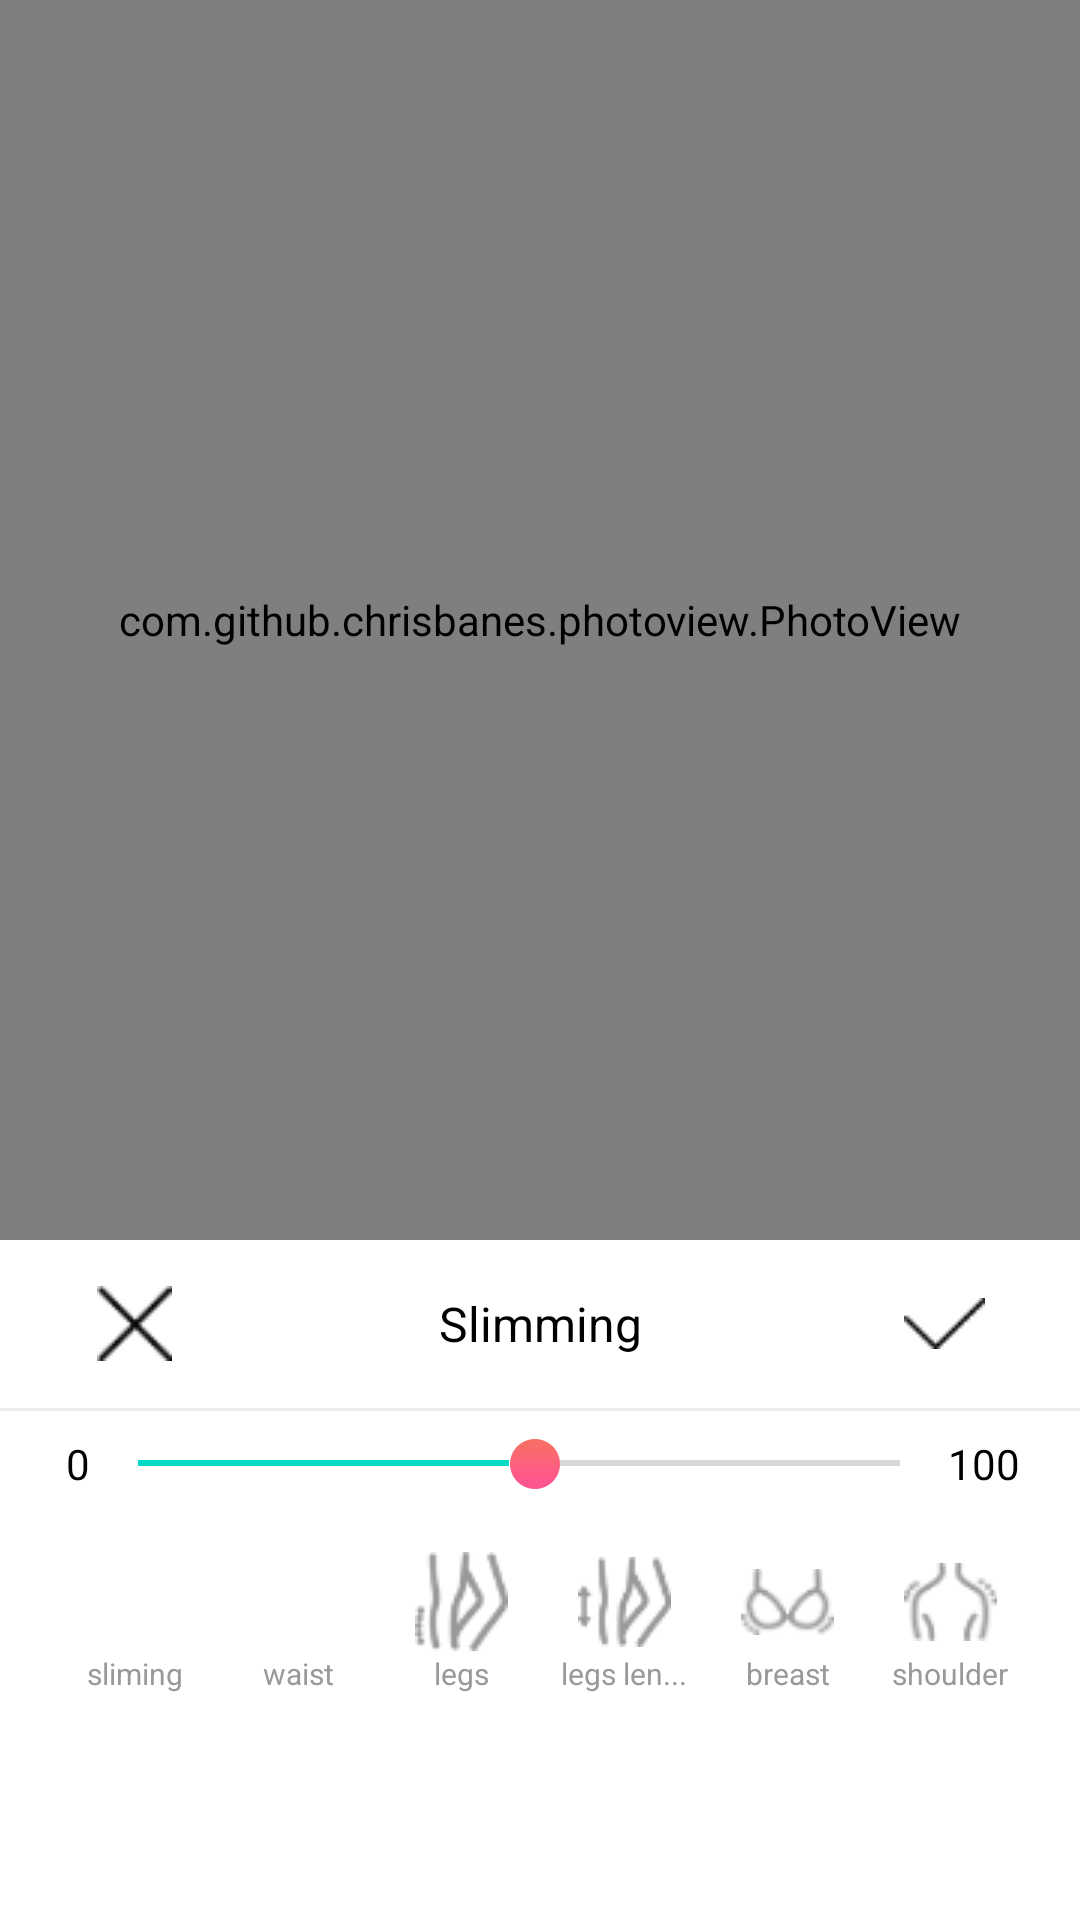

Where to tap for icons on this 1080w x 1920h app screen, as point (x, y):
cancel: point (134, 1323)
confirm: point (944, 1323)
